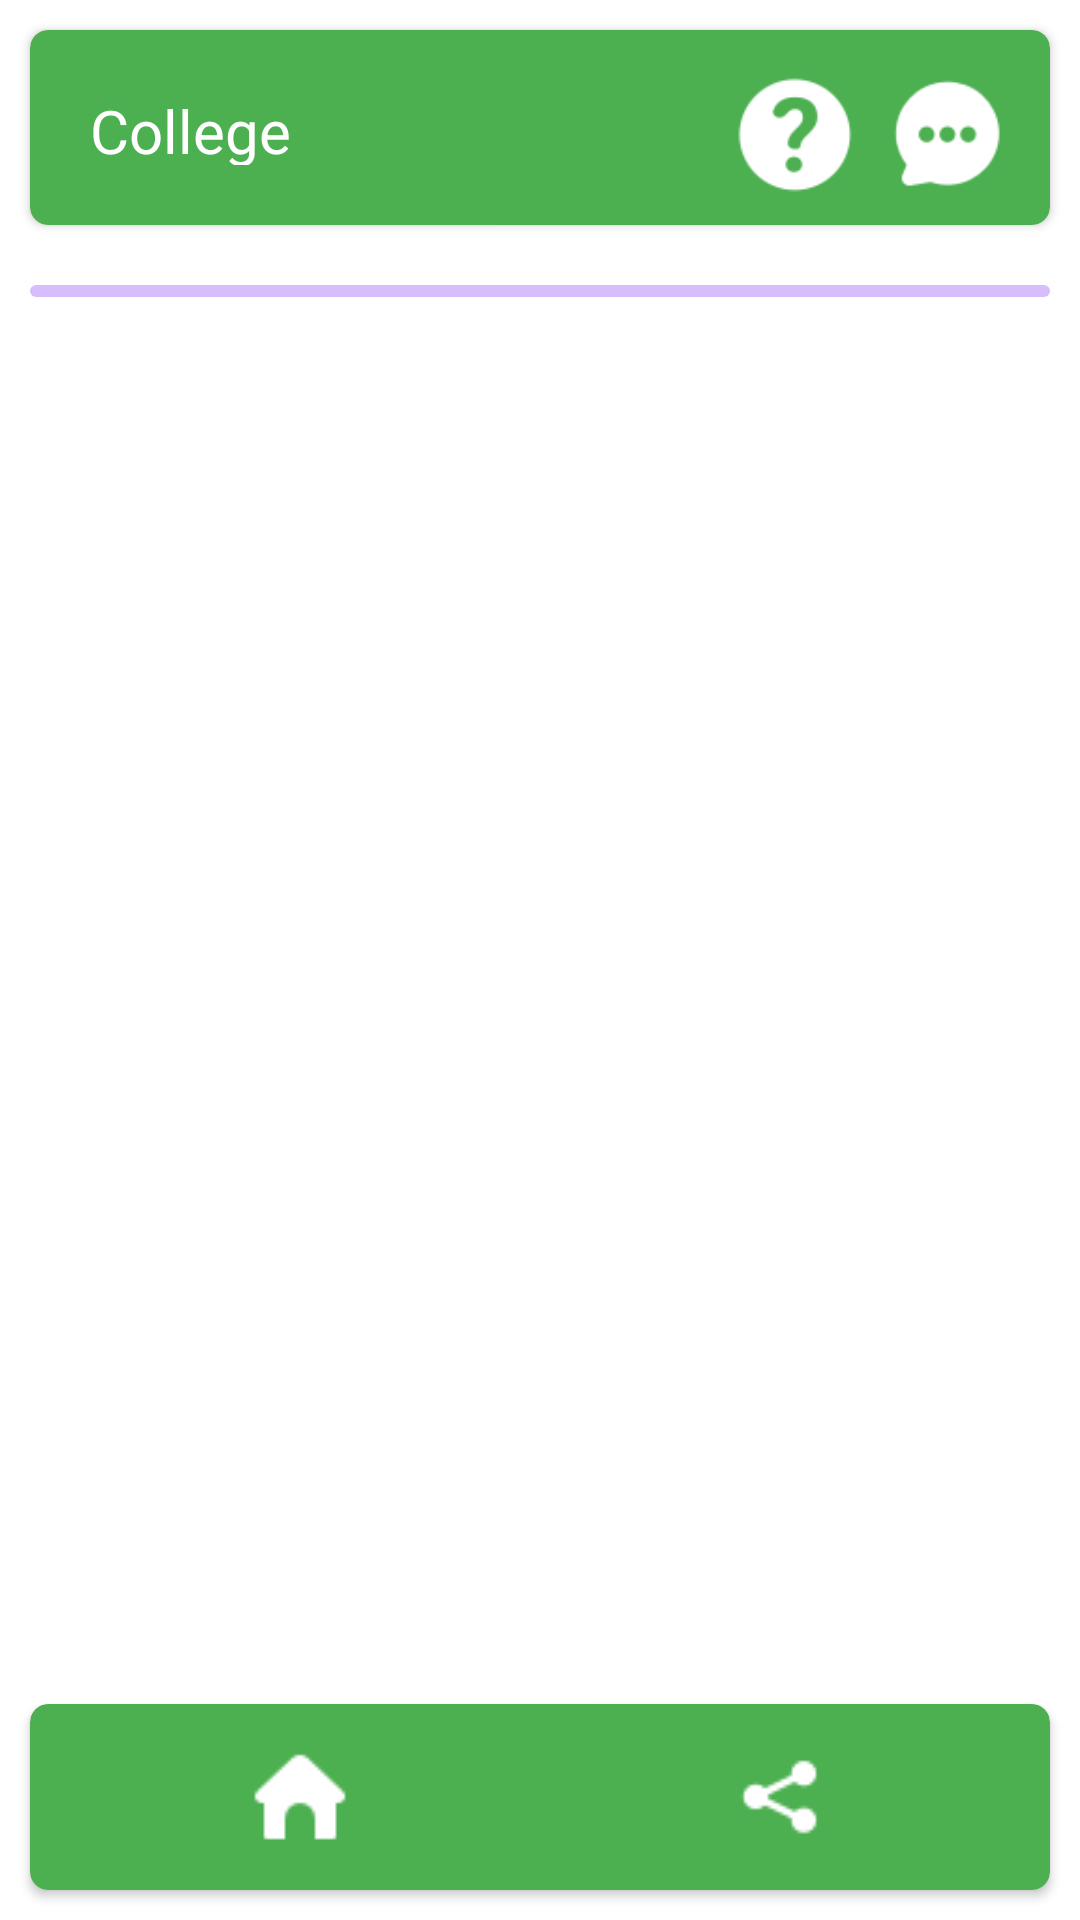

Screen size 1080px x 1920px. Icon name, then its box in pixels as detection(x1, y1, x2, y2):
homes: detection(254, 1754, 346, 1840)
mchat: detection(895, 81, 1000, 186)
shares: detection(742, 1760, 817, 1834)
